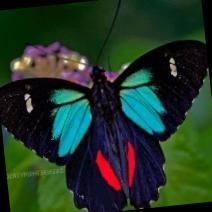butterfly: (0, 39, 209, 212)
